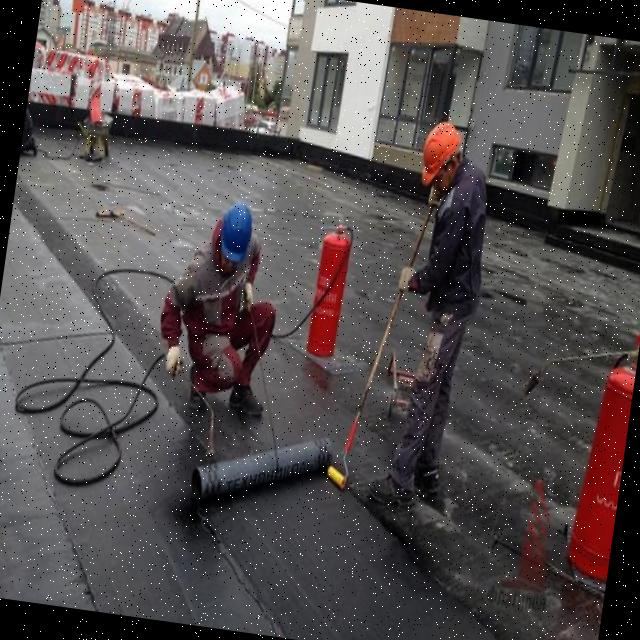Helmet: (419, 121, 467, 192), (218, 204, 257, 268)
NoJacket: (426, 164, 493, 321), (183, 253, 253, 349)
